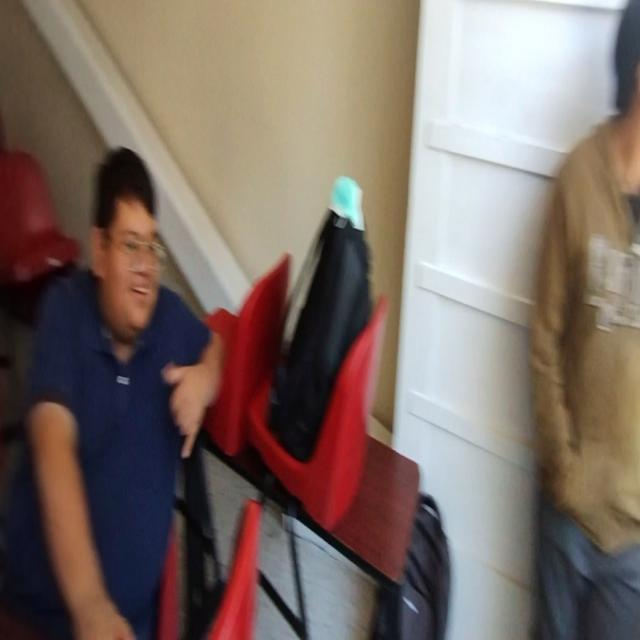adult: (12, 146, 222, 640)
